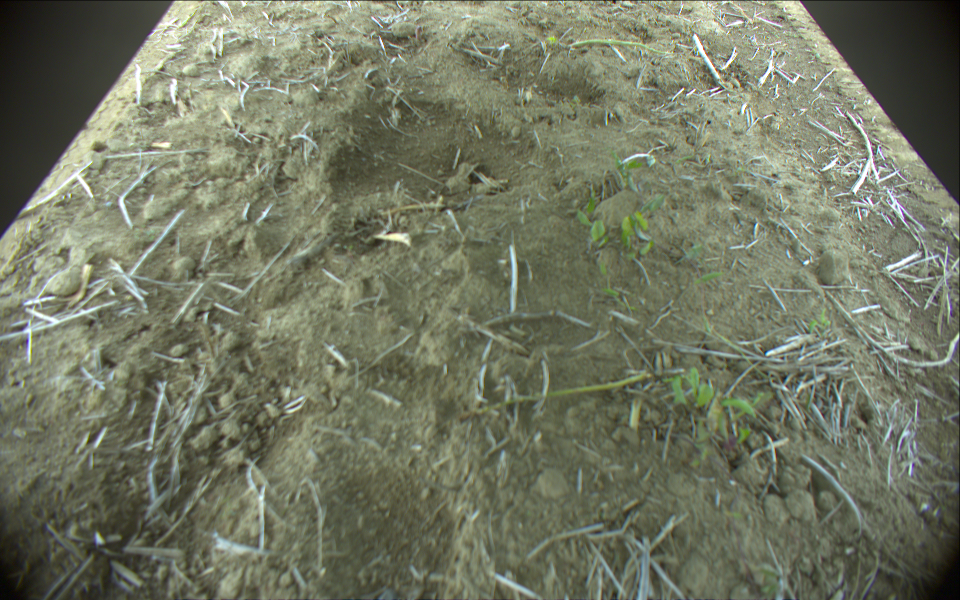aspa: (458, 369, 662, 419), (565, 38, 679, 54)
